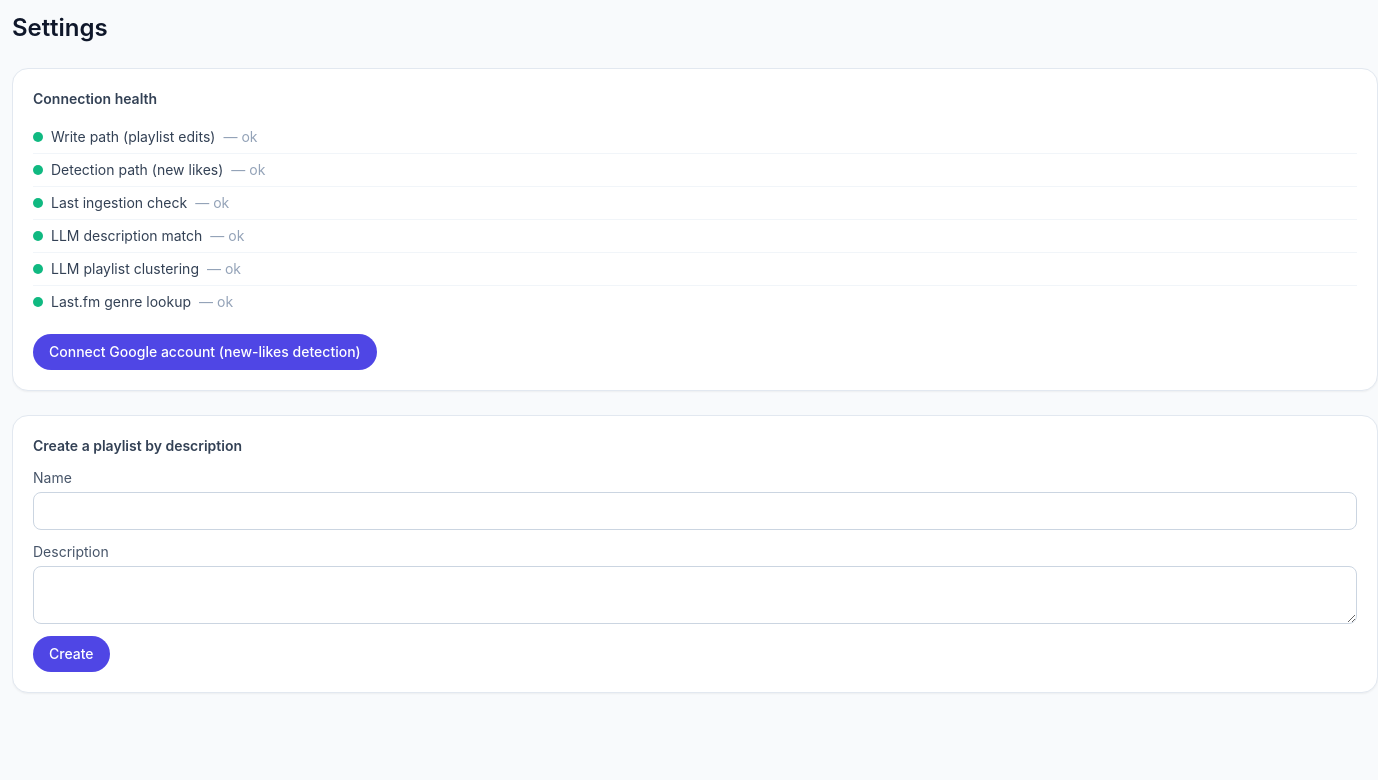
Settings › submits the create-playlist form and shows the resulting message
The width and height of the screenshot is (1378, 780).
Expected: the text "Write path (playlist edits)" is shown, [51,127,216,147]
In the field labelled "Name": (695, 511) [33,492,1357,530], type "Road Trip"
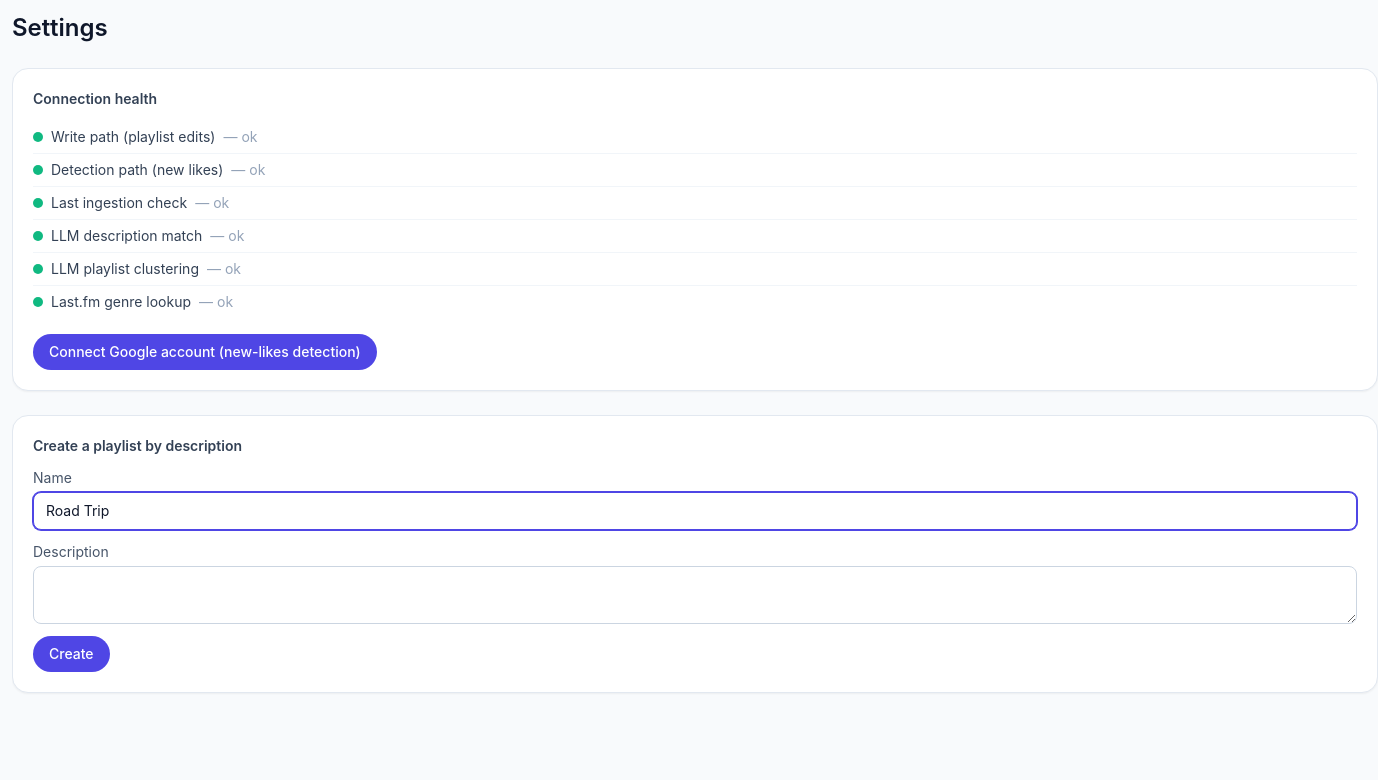
In the text box labelled "Description": (695, 595) [33,566,1357,624], type "songs for driving"
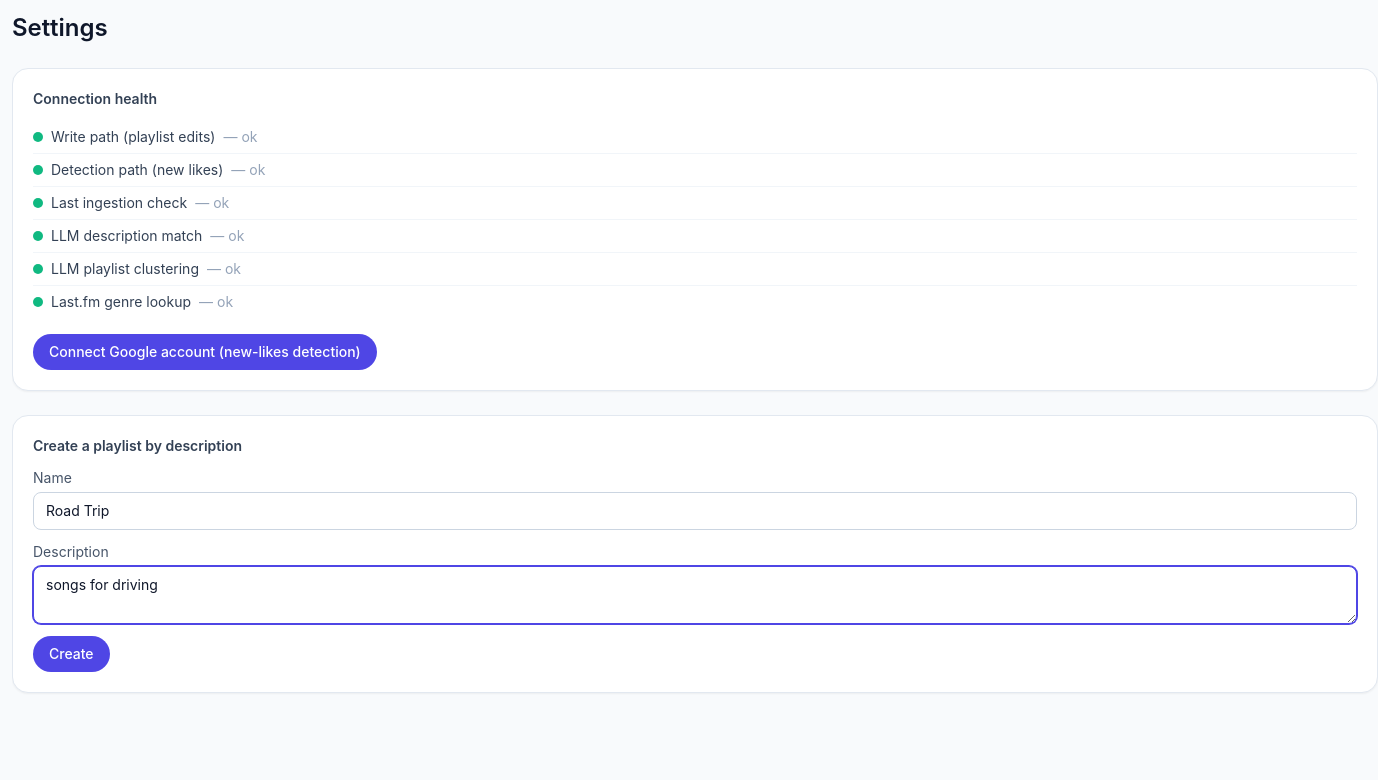
Click the button "Create": (71, 654) [33,636,110,672]
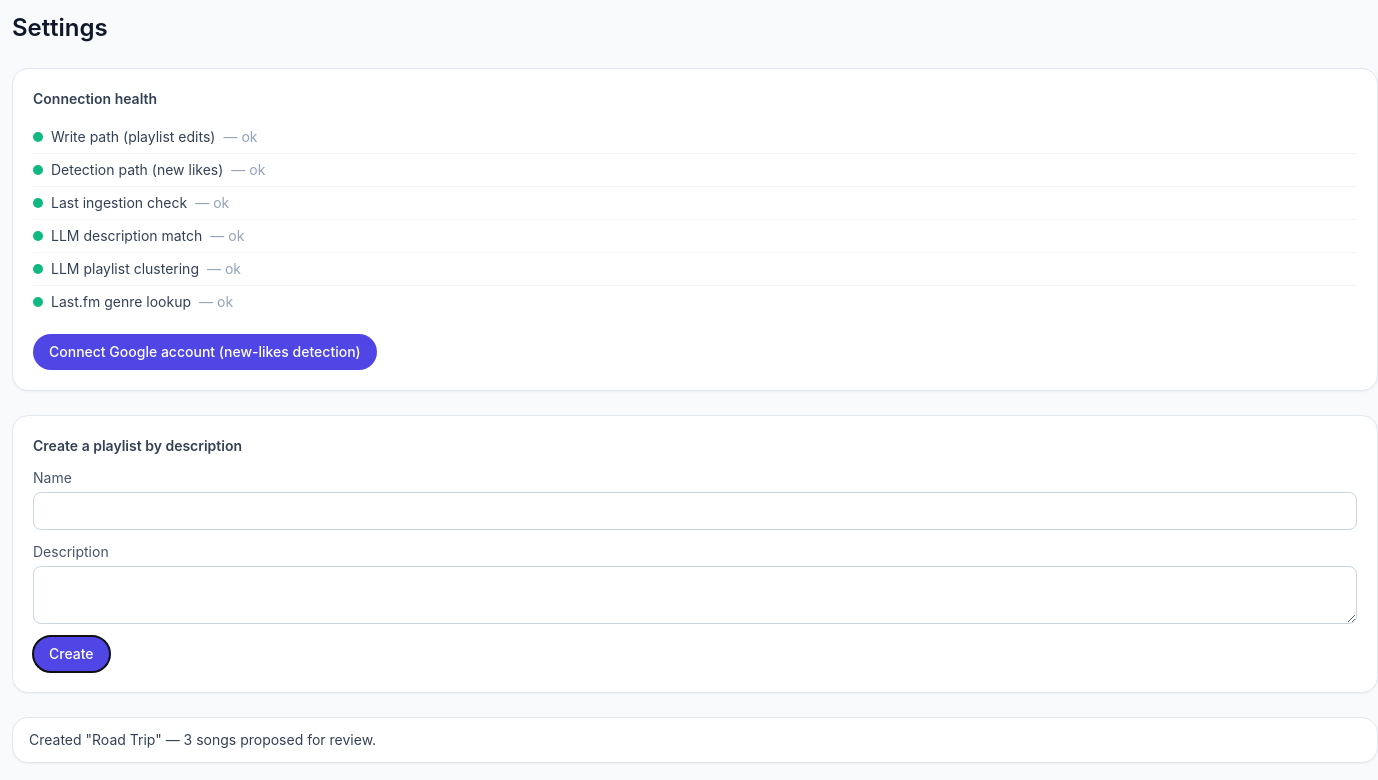
Expected: the message reads "Created \"Road Trip\" — 3 songs proposed for review.", [29,731,376,748]
